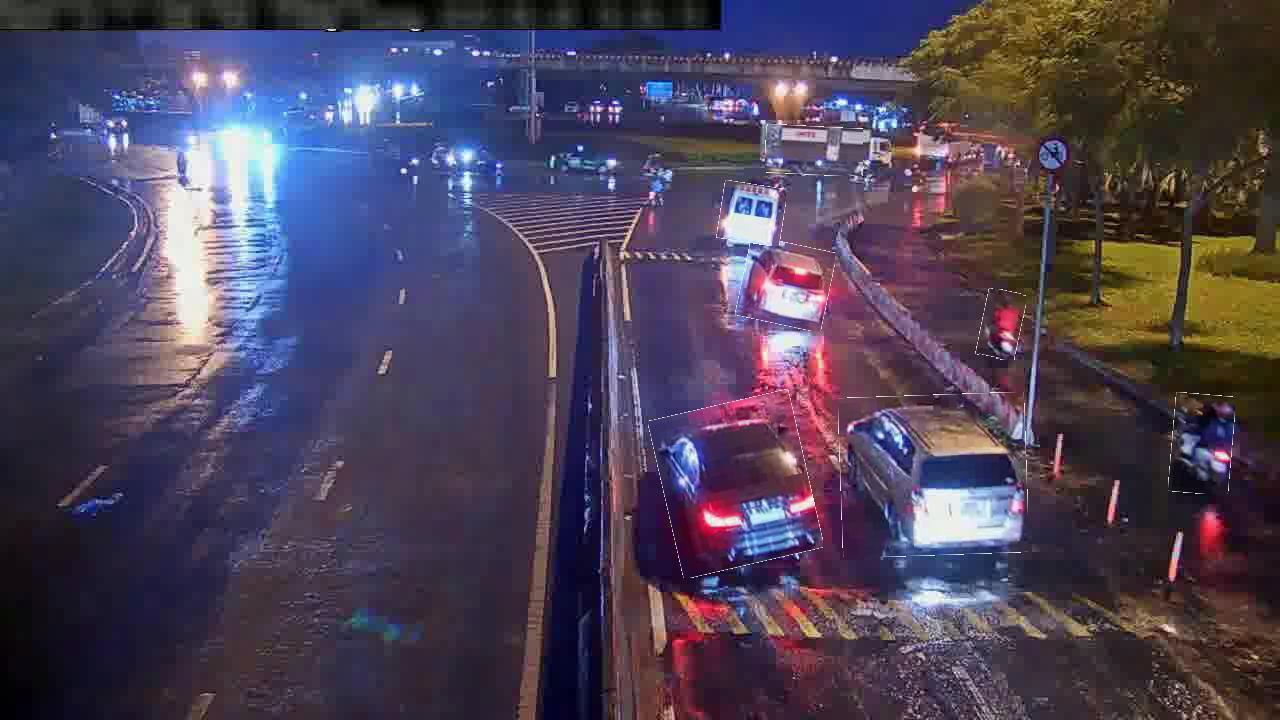14: (718, 183, 785, 245)
8: (766, 126, 864, 176)
container: (840, 394, 1028, 557), (656, 396, 816, 572), (739, 239, 833, 328)
motorbike: (1170, 393, 1234, 494), (979, 290, 1024, 360)
